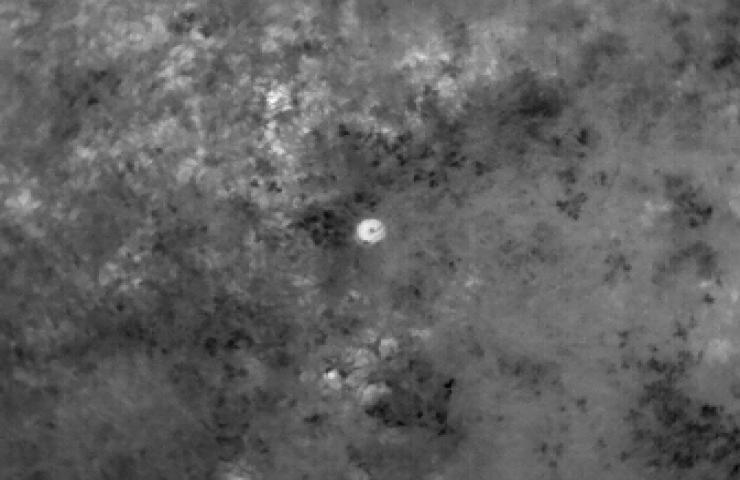landmines: (355, 215, 389, 246)
